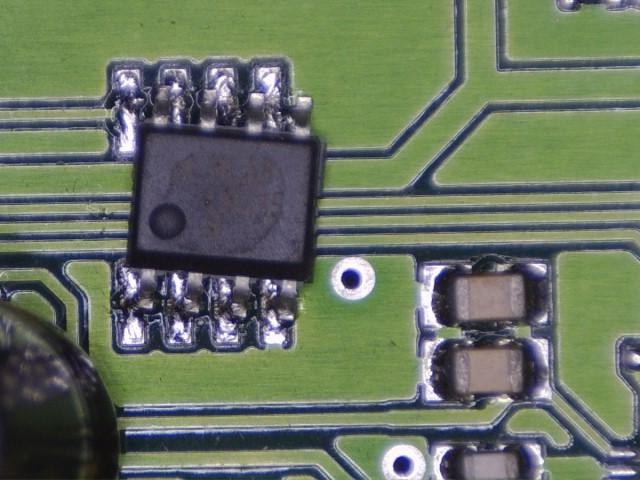pcb_defect: (112, 62, 327, 349)
